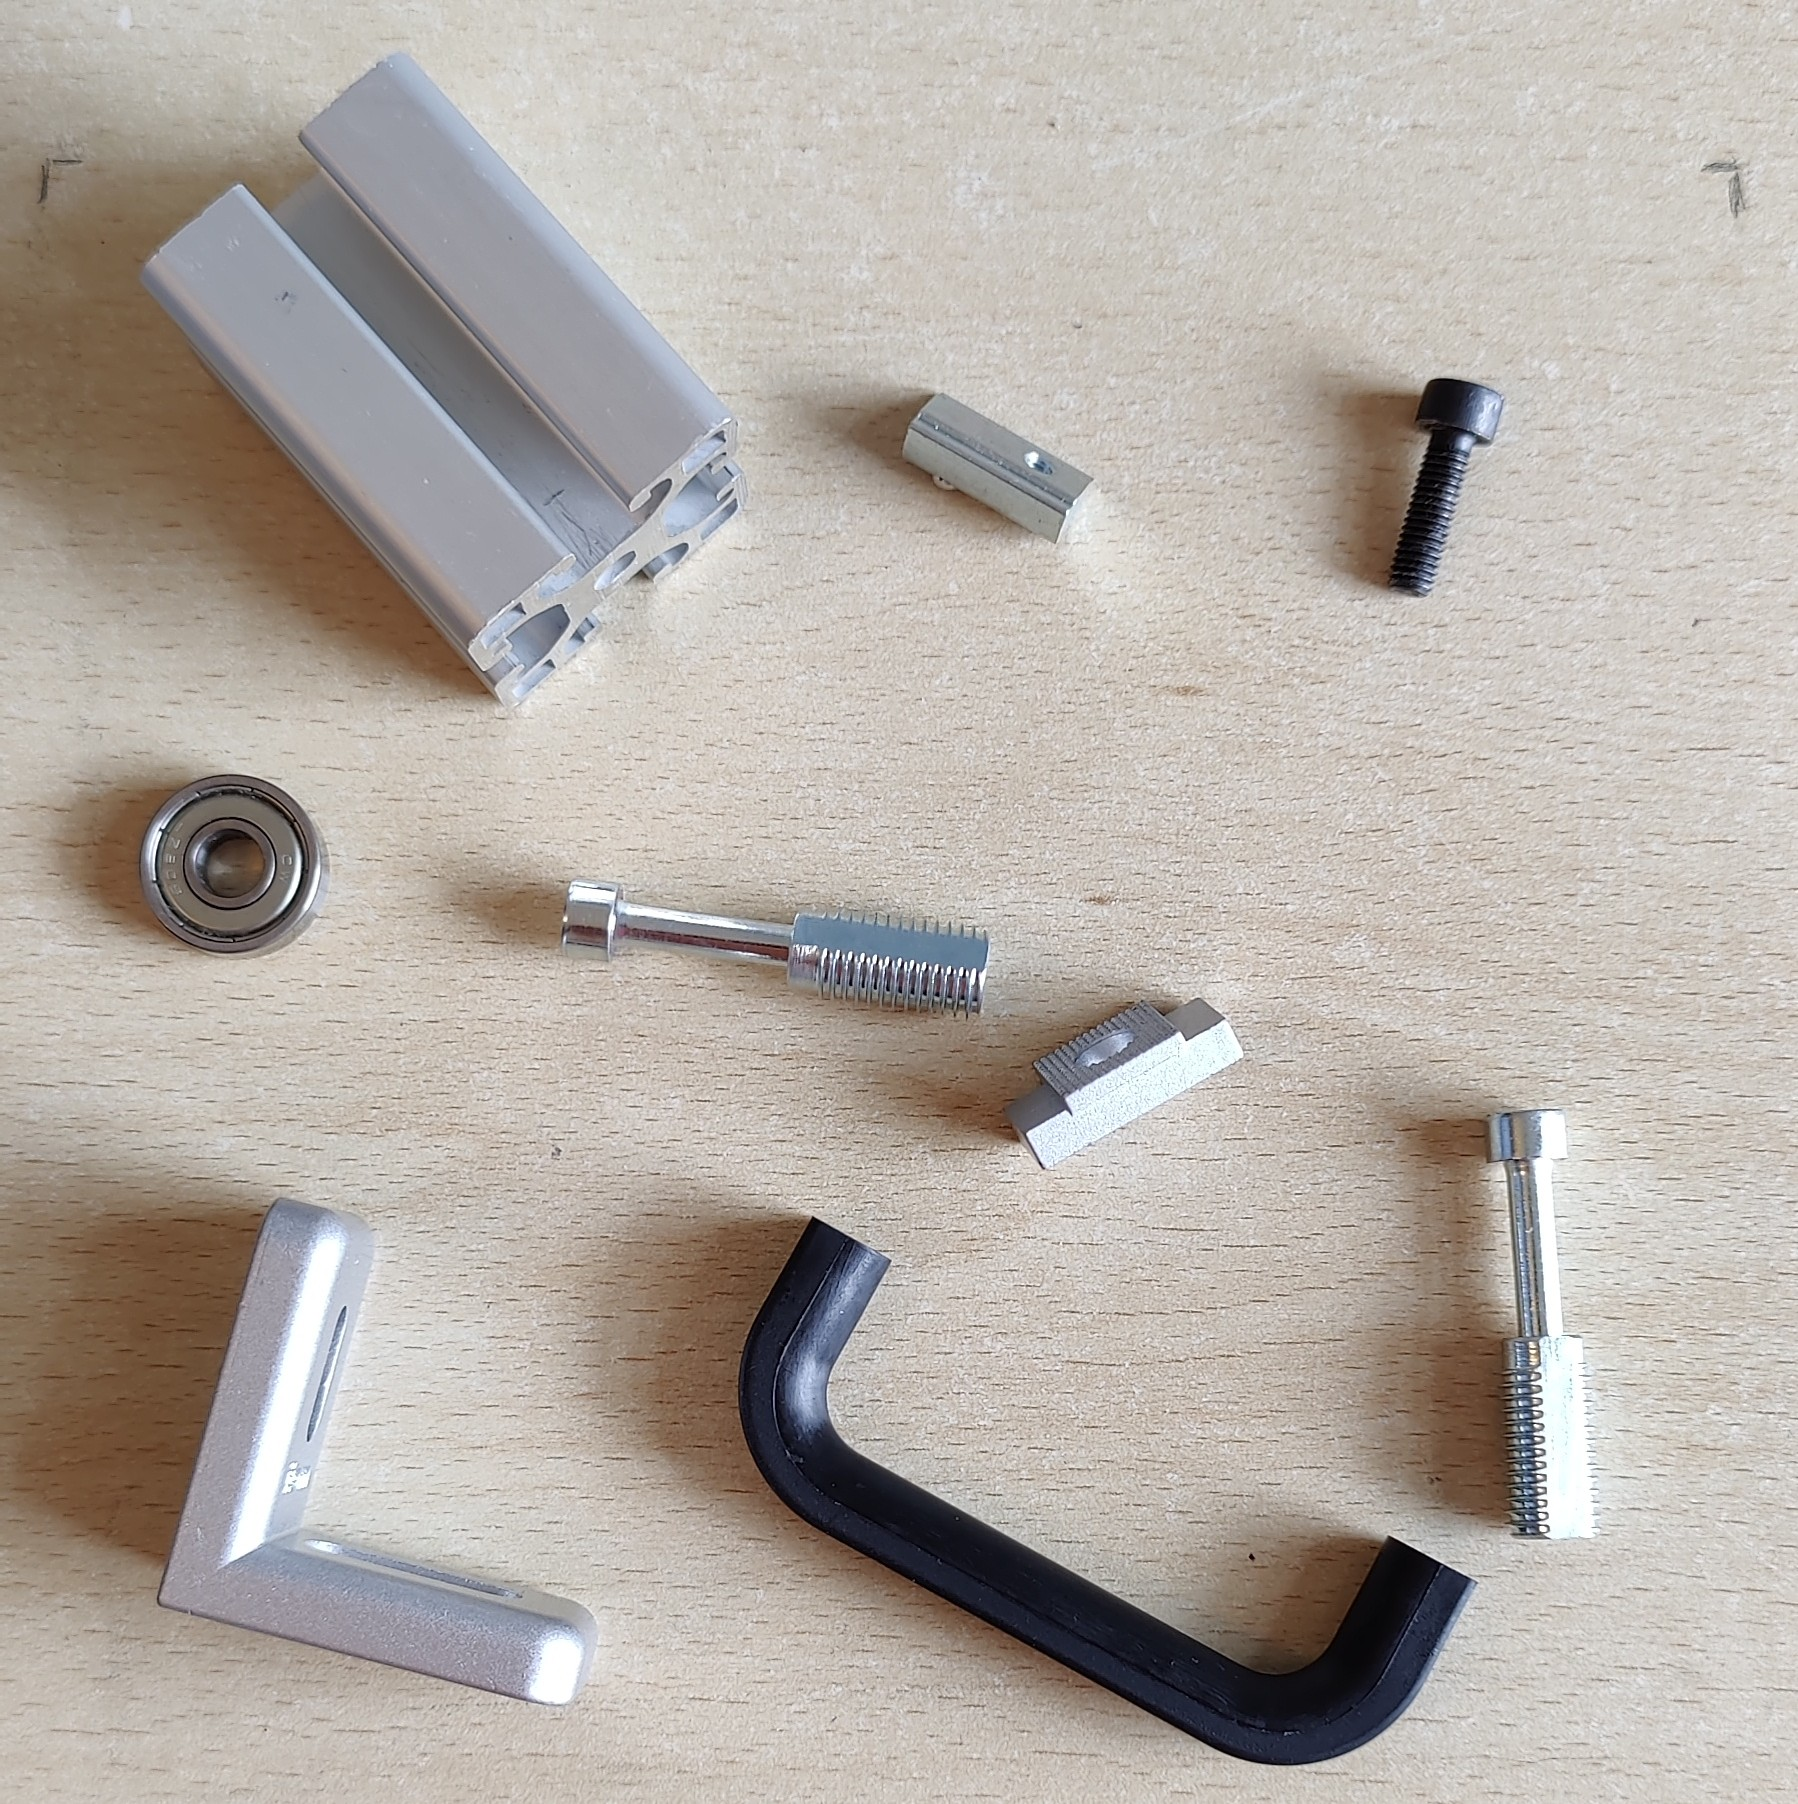Aluminium Extension: (137, 48, 751, 713)
Ball Bearing: (137, 774, 329, 961)
Multiwinkel: (156, 1193, 603, 1707)
Pull Handle: (736, 1215, 1480, 1768)
Shoulder Socket Head Cap Screw: (560, 876, 993, 1021), (1482, 1108, 1605, 1546)
Socket Head Cap Screw: (1381, 374, 1507, 601)
T Nut Square: (1003, 999, 1245, 1175)
T Spring Nut: (901, 388, 1100, 551)
